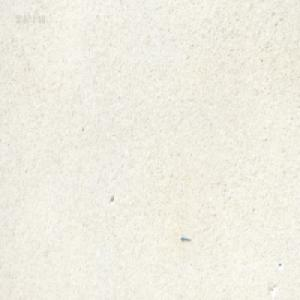Nail: (180, 234, 190, 241)
